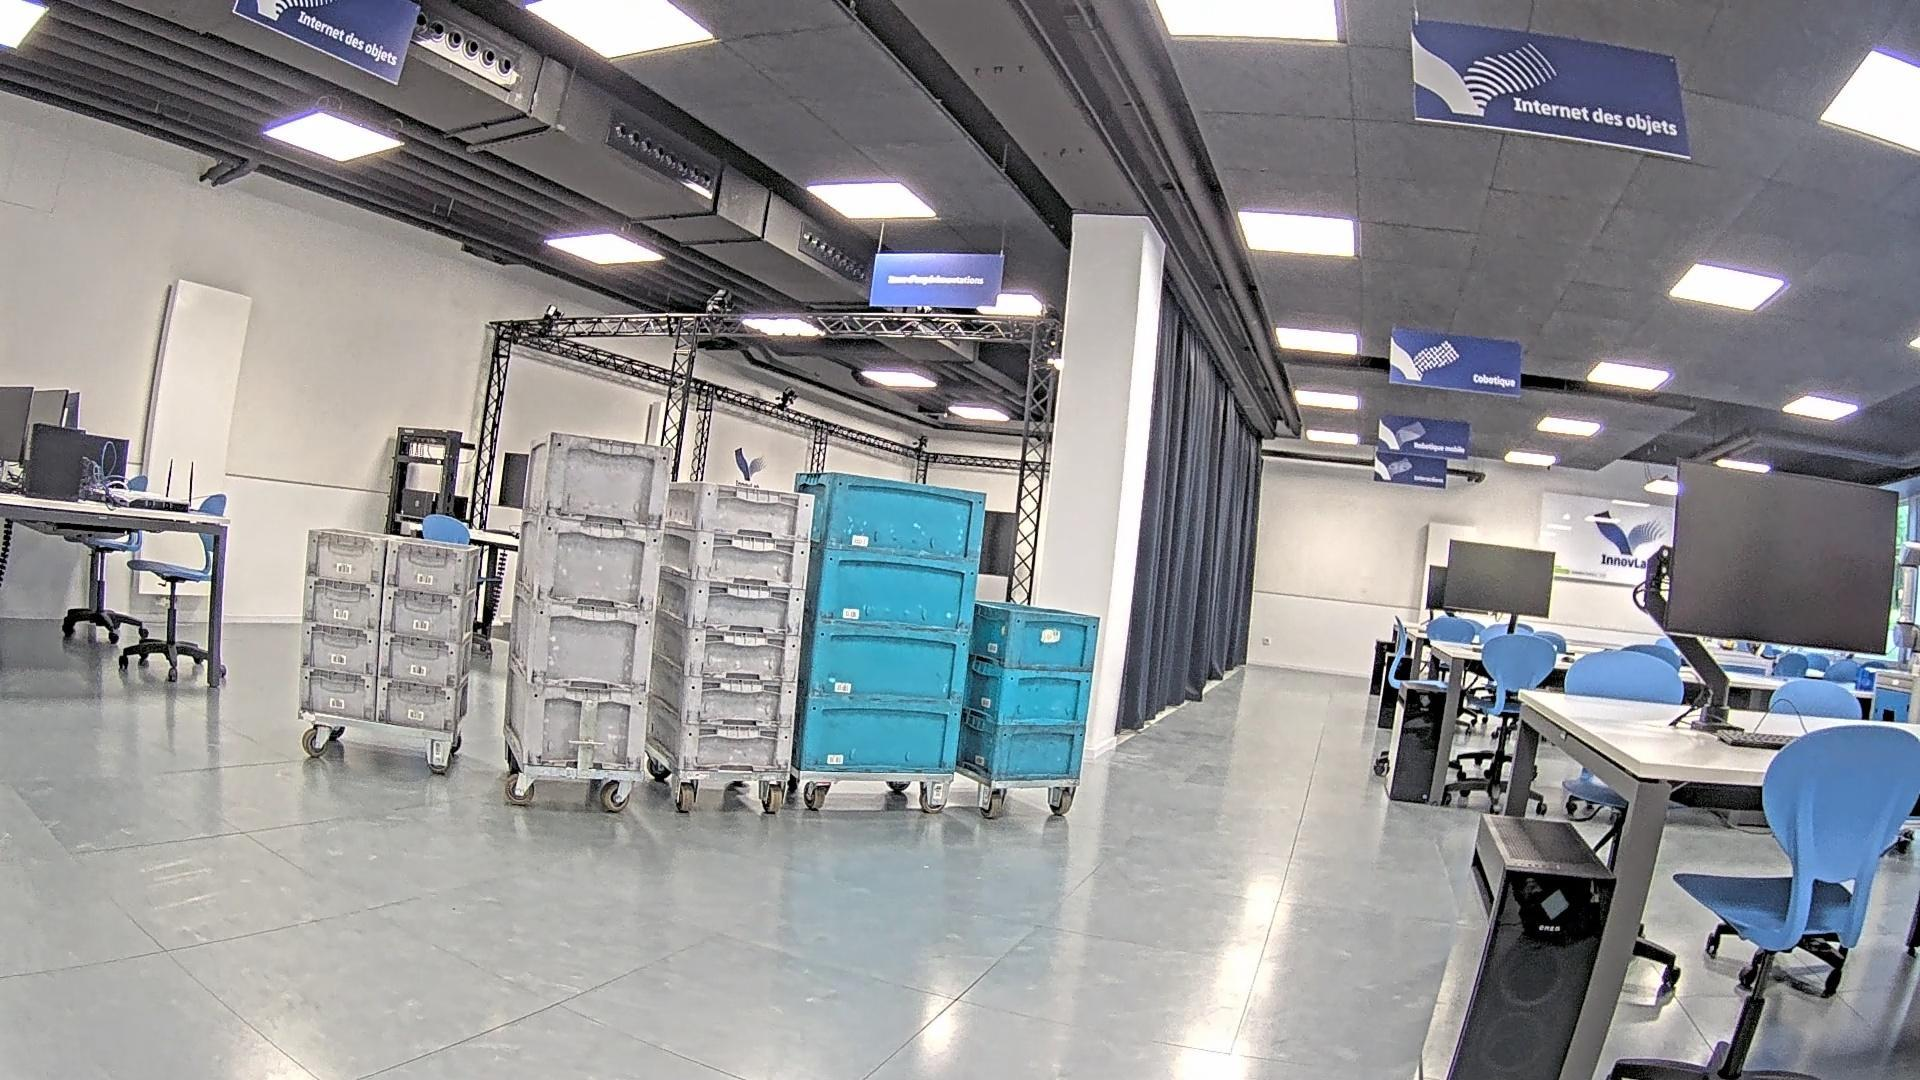Box3G: (644, 480, 818, 775)
Box4G: (501, 430, 675, 773)
Box8G: (295, 525, 483, 735)
BoxB4: (789, 469, 990, 778)
BoxB8: (953, 597, 1104, 785)
